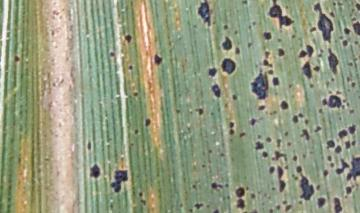tarspot: (311, 1, 334, 45), (264, 1, 296, 32), (249, 72, 269, 100), (109, 169, 130, 194), (325, 46, 341, 77), (298, 175, 315, 202), (196, 1, 212, 28), (345, 156, 360, 182), (334, 157, 351, 177), (220, 57, 236, 75), (301, 60, 313, 80), (326, 94, 341, 109), (88, 162, 101, 179), (220, 35, 233, 52), (209, 82, 222, 98), (331, 196, 343, 213), (273, 150, 288, 162), (276, 178, 287, 193), (234, 185, 246, 198), (336, 127, 348, 140), (299, 128, 310, 142), (304, 43, 314, 58), (206, 66, 218, 78), (315, 196, 326, 209), (350, 21, 360, 35), (234, 198, 245, 210), (153, 52, 163, 65), (347, 123, 357, 136), (275, 163, 283, 179), (122, 32, 133, 43), (247, 116, 258, 127), (253, 140, 264, 151), (323, 139, 335, 149), (209, 181, 222, 190), (278, 100, 289, 110), (312, 124, 323, 134), (296, 48, 307, 58), (343, 184, 353, 195), (261, 59, 273, 68), (192, 202, 205, 210), (262, 31, 272, 41), (270, 76, 280, 86), (276, 47, 285, 58), (333, 145, 343, 154), (274, 137, 282, 148), (342, 139, 350, 150), (342, 26, 351, 35), (263, 49, 271, 59), (283, 204, 293, 212), (86, 139, 92, 152), (144, 117, 151, 128), (261, 149, 268, 160), (139, 198, 147, 207), (264, 135, 272, 144), (295, 165, 303, 174), (308, 25, 316, 34), (328, 10, 336, 19), (256, 104, 266, 111), (341, 38, 348, 48), (12, 54, 20, 62), (196, 107, 204, 115), (249, 192, 257, 200), (238, 131, 246, 139), (246, 40, 253, 49), (291, 114, 298, 123), (312, 65, 321, 72), (321, 168, 328, 177), (268, 164, 274, 174), (354, 2, 360, 12), (127, 64, 134, 72), (230, 93, 238, 100), (228, 128, 235, 136), (266, 68, 274, 75), (314, 183, 321, 191), (234, 46, 240, 55), (108, 50, 115, 57), (131, 90, 138, 97), (276, 37, 283, 44), (274, 203, 281, 210), (266, 207, 274, 213), (228, 120, 234, 128), (223, 101, 229, 109), (320, 98, 326, 106), (326, 154, 332, 162), (350, 139, 356, 147), (324, 80, 330, 88), (211, 208, 220, 213), (133, 128, 139, 135), (129, 141, 135, 148), (191, 183, 197, 190), (222, 23, 228, 30), (297, 112, 304, 118), (307, 82, 314, 88), (335, 89, 342, 95), (347, 108, 354, 114), (346, 61, 353, 67), (352, 39, 359, 45), (218, 152, 226, 157), (250, 208, 258, 213), (240, 1, 248, 6), (292, 154, 297, 162), (345, 75, 350, 83), (174, 108, 180, 114), (206, 148, 212, 154), (200, 163, 206, 169), (225, 194, 231, 200), (290, 33, 296, 39), (255, 133, 261, 139), (287, 82, 293, 88), (283, 164, 289, 170), (297, 199, 303, 205), (303, 118, 309, 124), (317, 52, 323, 58), (317, 107, 323, 113), (336, 1, 342, 7), (350, 16, 356, 22), (283, 130, 288, 137), (350, 80, 355, 87), (330, 76, 335, 83), (350, 6, 355, 13), (138, 191, 143, 197), (208, 110, 214, 115), (188, 207, 193, 213), (224, 182, 229, 188), (232, 29, 237, 35), (251, 20, 256, 26), (247, 24, 252, 30), (271, 109, 277, 114), (286, 141, 291, 147), (270, 155, 275, 161), (281, 199, 287, 204), (301, 152, 306, 158), (329, 162, 334, 168), (340, 104, 345, 110), (337, 115, 342, 121), (345, 87, 351, 92), (337, 35, 343, 40), (205, 203, 210, 208), (270, 186, 275, 191), (284, 4, 289, 9), (273, 90, 278, 95), (267, 111, 272, 116), (327, 89, 332, 94), (267, 194, 271, 200), (345, 101, 349, 107), (353, 56, 357, 62), (178, 202, 182, 207), (262, 192, 266, 197), (258, 68, 263, 72), (319, 48, 323, 53), (341, 98, 346, 102), (332, 1, 336, 6), (294, 176, 298, 180), (290, 173, 294, 177), (245, 185, 248, 190), (357, 94, 360, 99)
